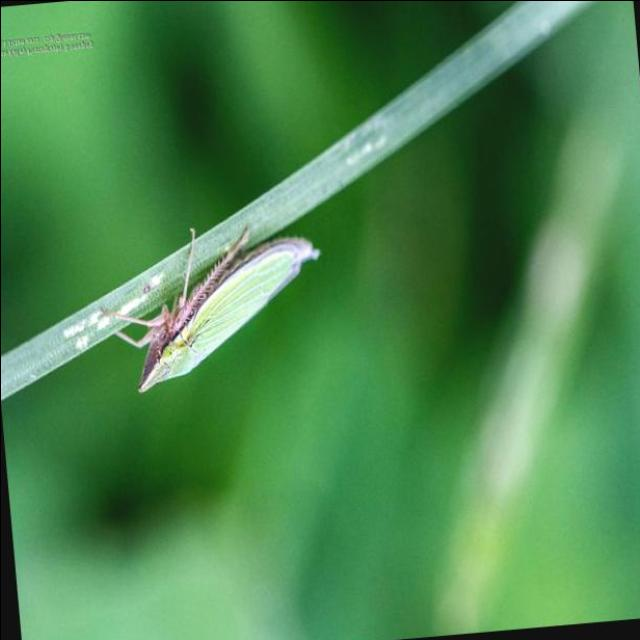green leaf hopper: (100, 228, 318, 392)
